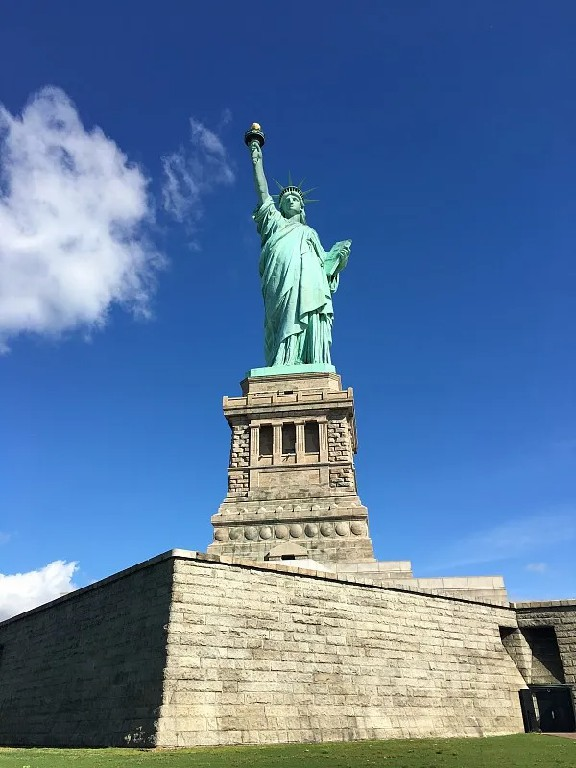SL: (208, 120, 376, 563)
